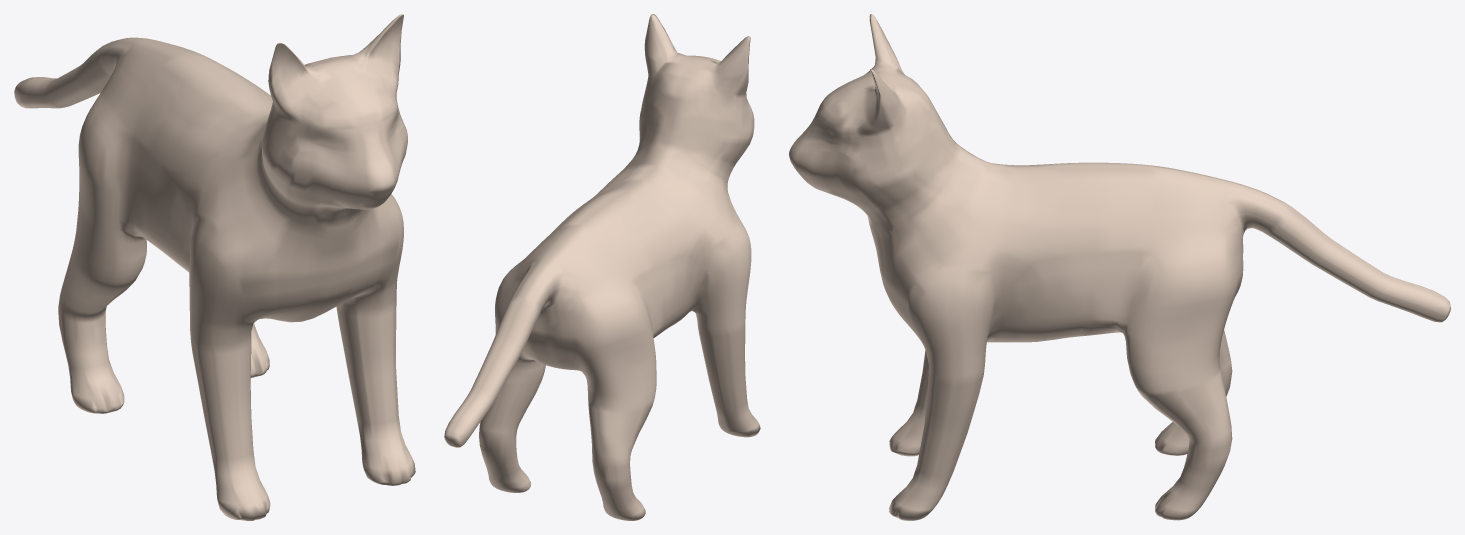
Rendered from BasicCat.fbx.
3 views of the same model, side by side, from view 1: azimuth 30°, elevation 25°; view 2: azimuth 150°, elevation 25°; view 3: azimuth 270°, elevation 25° (orthographic). The views are drawn at different scales.
Visible parts, largest first — view 1: cat; view 2: cat; view 3: cat.
Part boxes in pixels (x1,y1,x2,y2): cat: (14,14,415,520); cat: (444,14,760,520); cat: (789,14,1450,520).
Bounding box in the file's own units: 4.52 × 10.44 × 14.2.
